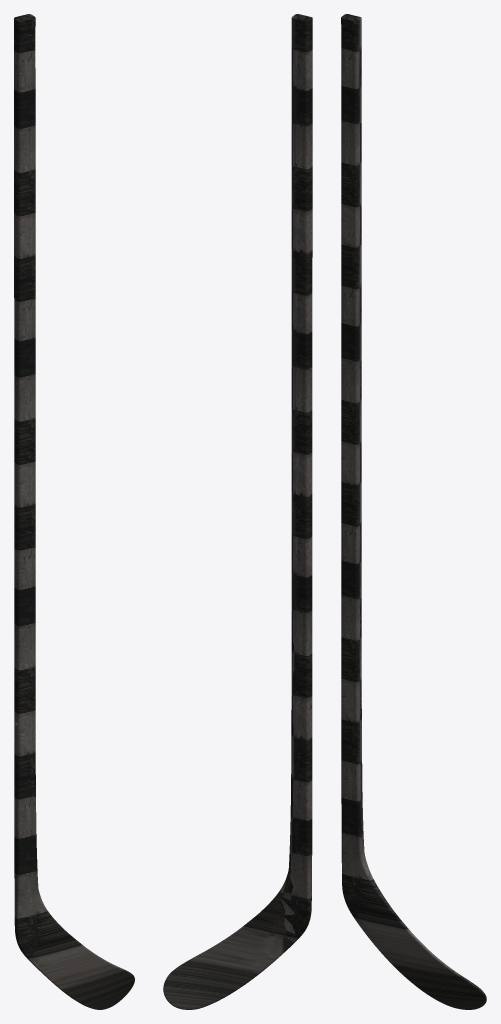
Rendered from P28-1-4-ST-LIE5_5.glb.
3 renders of one model, left to right at view 1: azimuth 30°, elevation 25°; view 2: azimuth 150°, elevation 25°; view 3: azimuth 330°, elevation 25°, orthographic. The views are drawn at different scales.
Visible parts, largest first — view 1: geometry_0; view 2: geometry_0; view 3: geometry_0.
Boxes of the visible parts, x1,y1,x2,y2 form: geometry_0: (14,14,134,1009); geometry_0: (163,14,312,1009); geometry_0: (341,14,486,1009).
Size of the model in its own units: 226 by 1650 by 65.81.
1 material, 1 textured.
